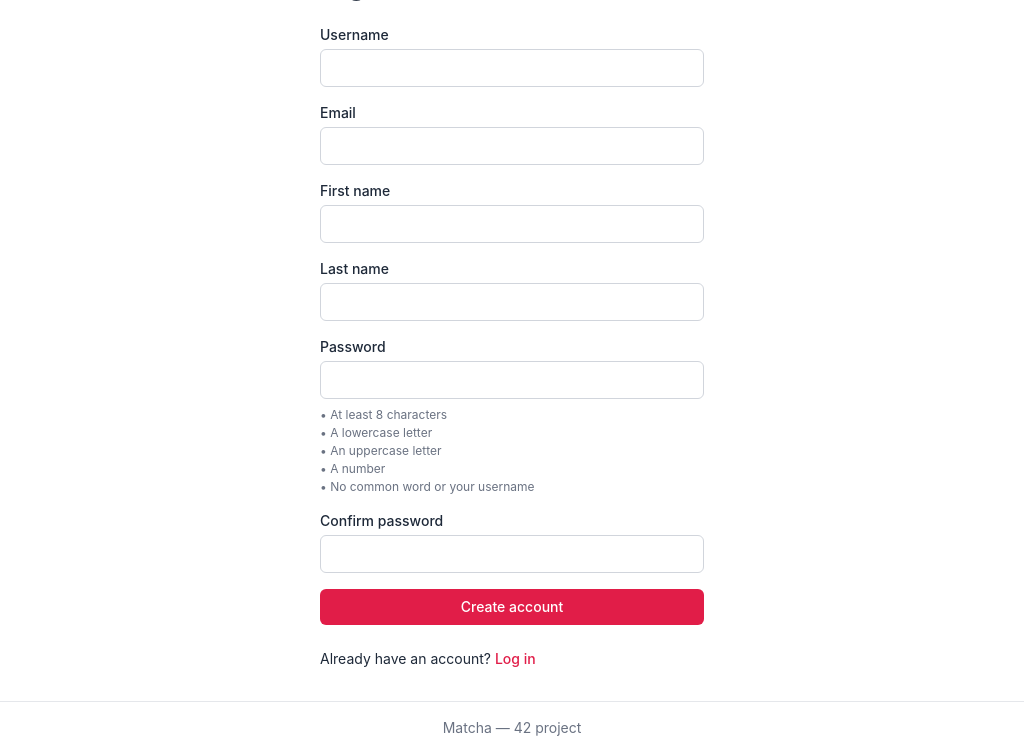
it: navigation › register page links to login
(page scrolled)
What coordinates should you click on to do the following:
click the link "Log in"
I would click on:
 (515, 658)
Its box is [495,650,536,667].
(page scrolled)
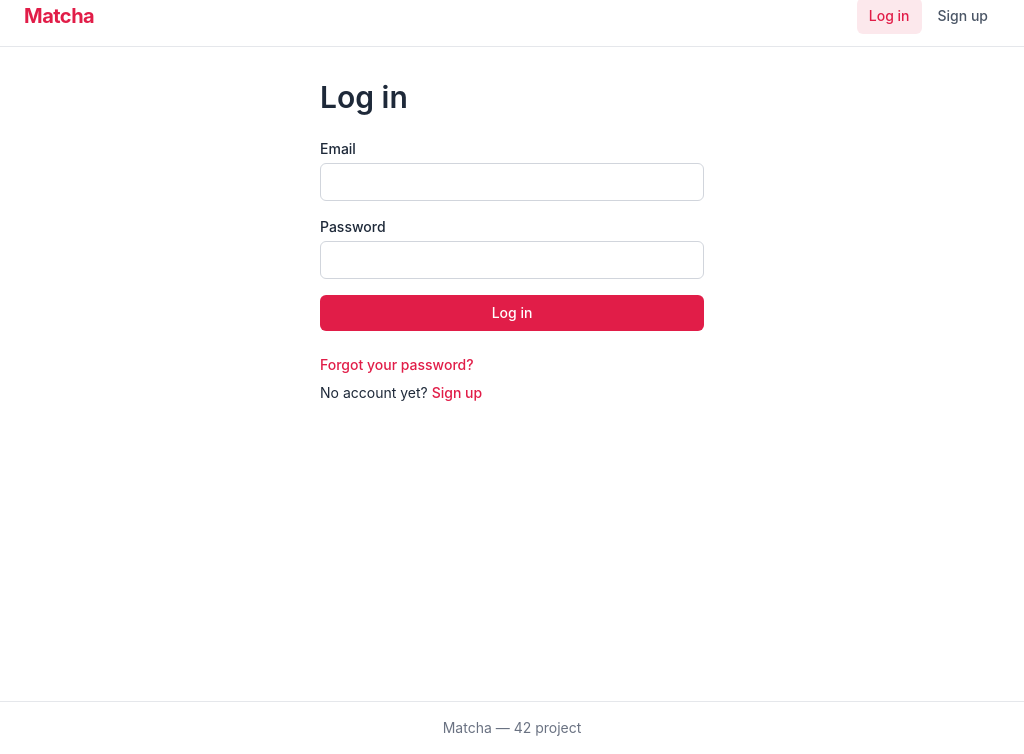
Expected: the heading "Log in" is shown, [320,79,408,115]
